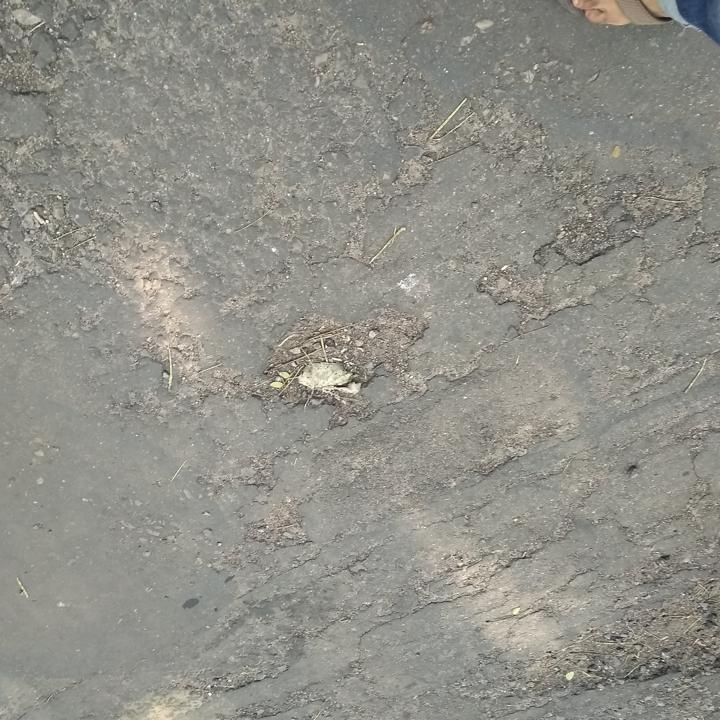pothole: (518, 578, 719, 693), (247, 301, 431, 415), (473, 272, 571, 326), (547, 217, 624, 269), (243, 498, 317, 552)
